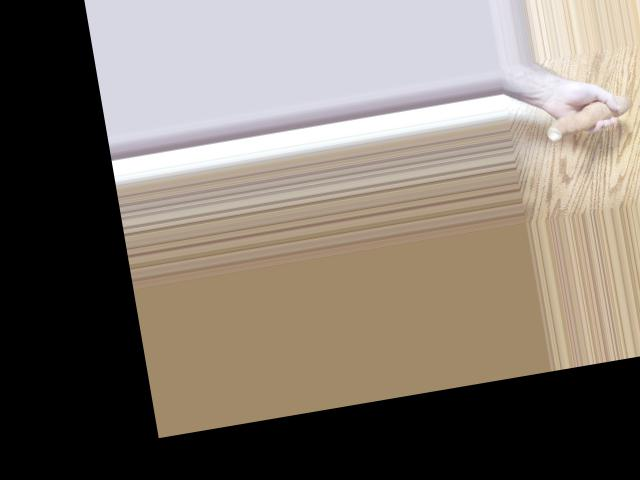sweet_potato: (535, 90, 626, 139)
